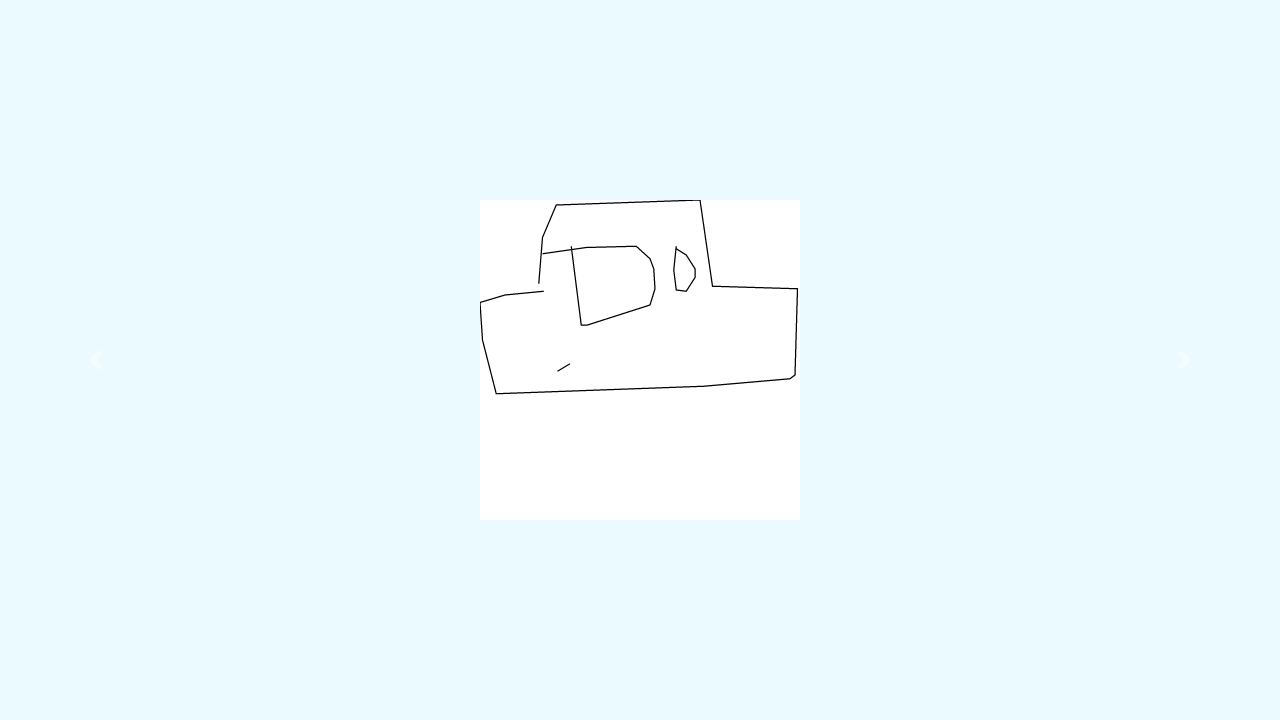car: (475, 197, 802, 399)
